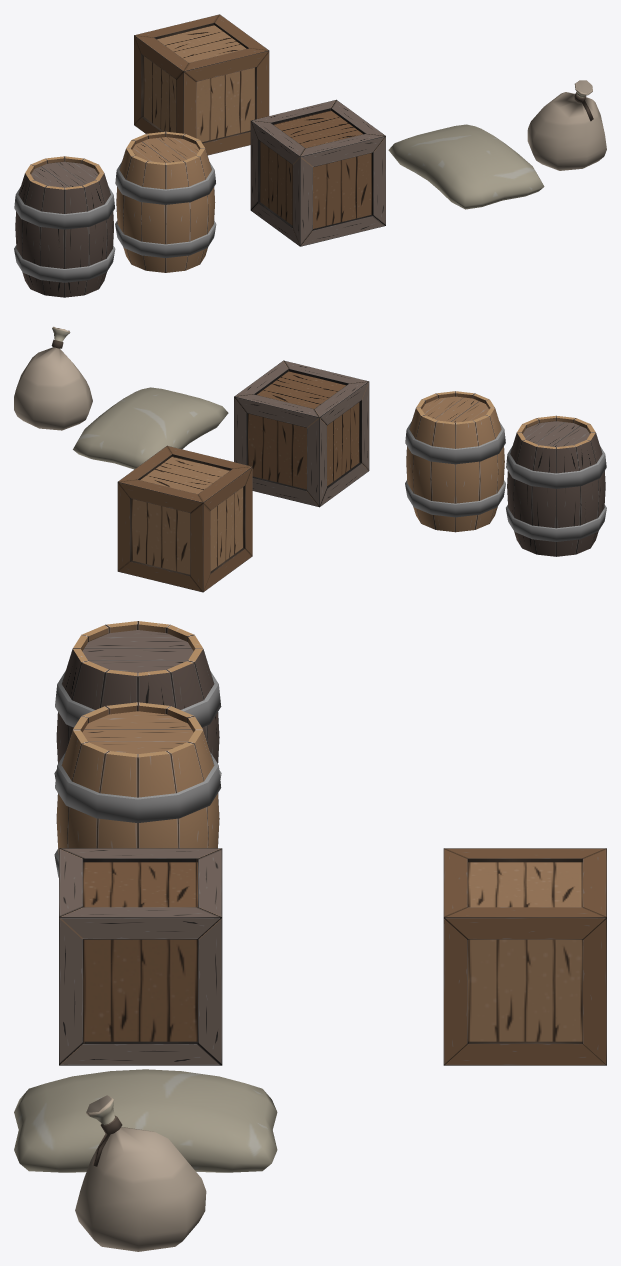
File: props_crate_02.glb
3 renders of one model, top to bottom at view 1: azimuth 30°, elevation 25°; view 2: azimuth 150°, elevation 25°; view 3: azimuth 270°, elevation 25°, orthographic. The views are drawn at different scales.
Visible parts, largest first — view 1: props_crate_02, props_crate_01, props_barrel_02, props_barrel_01, props_sack_01, props_sack_02; view 2: props_crate_01, props_crate_02, props_barrel_02, props_barrel_01, props_sack_01, props_sack_02; view 3: props_crate_02, props_crate_01, props_barrel_01, props_sack_01, props_barrel_02, props_sack_02.
Boxes of the visible parts, bbox=[...] form: props_crate_02: bbox=[250, 99, 385, 246]; props_crate_01: bbox=[134, 14, 269, 155]; props_barrel_02: bbox=[14, 156, 115, 297]; props_barrel_01: bbox=[115, 131, 216, 272]; props_sack_01: bbox=[388, 124, 544, 209]; props_sack_02: bbox=[527, 80, 606, 170]; props_crate_01: bbox=[117, 445, 252, 592]; props_crate_02: bbox=[234, 360, 369, 507]; props_barrel_02: bbox=[506, 415, 606, 556]; props_barrel_01: bbox=[405, 391, 505, 532]; props_sack_01: bbox=[73, 387, 228, 469]; props_sack_02: bbox=[14, 326, 92, 430]; props_crate_02: bbox=[59, 848, 222, 1065]; props_crate_01: bbox=[443, 848, 606, 1065]; props_barrel_01: bbox=[54, 702, 221, 877]; props_sack_01: bbox=[14, 1069, 277, 1172]; props_barrel_02: bbox=[54, 621, 221, 779]; props_sack_02: bbox=[75, 1095, 206, 1251].
Bounding box in the file's own units: 5.76 × 1.02 × 3.08.
Materials: 1 (1 with a texture image).
